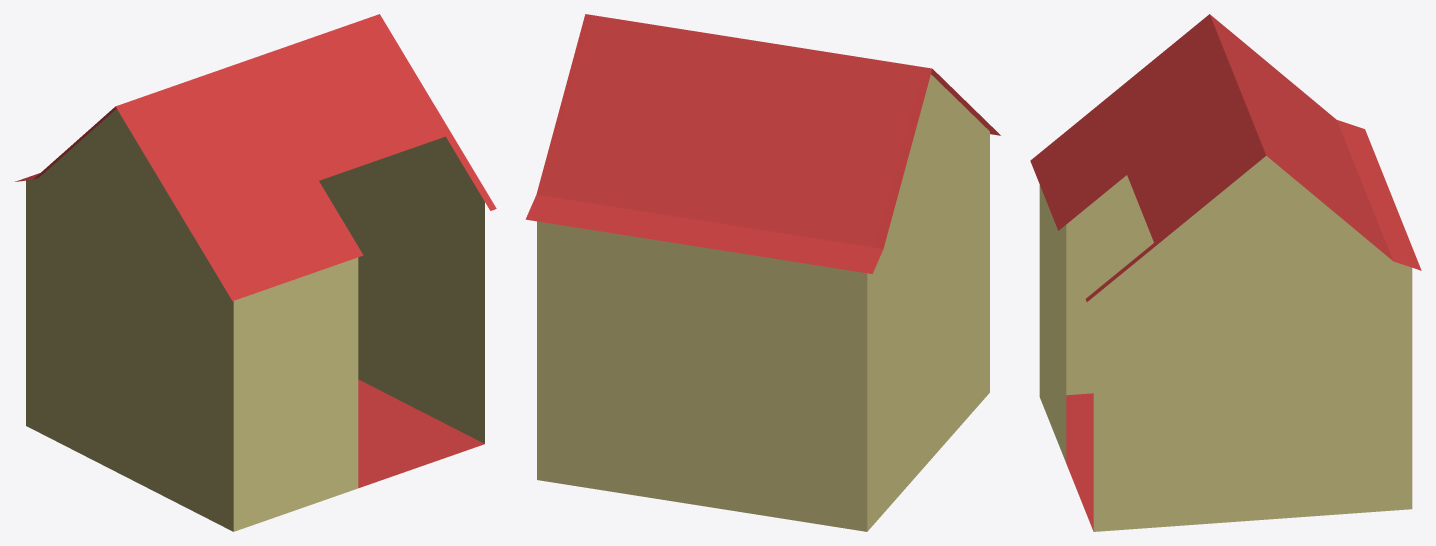
3 renders of one model, left to right at view 1: azimuth 30°, elevation 25°; view 2: azimuth 150°, elevation 25°; view 3: azimuth 270°, elevation 25°, orthographic. The views are drawn at different scales.
Bounding box in the file's own units: 11.89 × 11.88 × 12.31.
